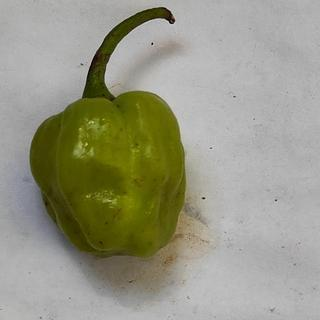Fly-bites: (94, 238, 108, 251), (112, 100, 124, 112)
